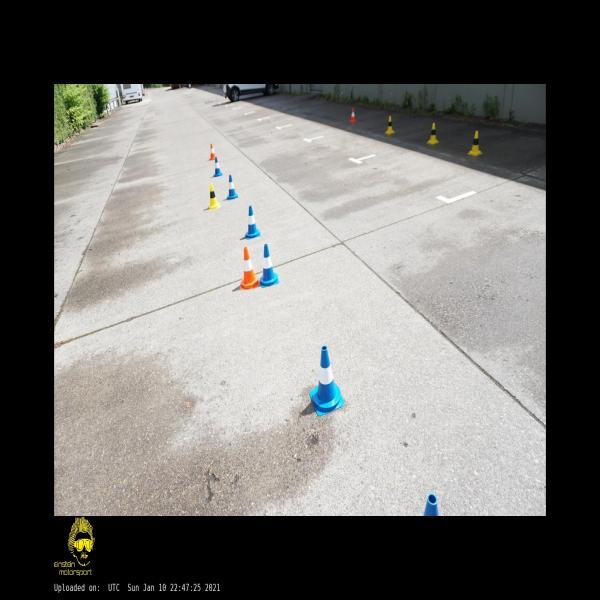blue_cone: (309, 346, 344, 416), (259, 245, 279, 288), (245, 206, 261, 240), (227, 174, 238, 200), (213, 157, 223, 177)
orange_cone: (240, 248, 258, 290), (208, 143, 216, 161), (349, 108, 357, 123)
yellow_cone: (468, 131, 482, 155), (208, 183, 220, 210), (427, 122, 439, 144), (385, 116, 395, 134)
